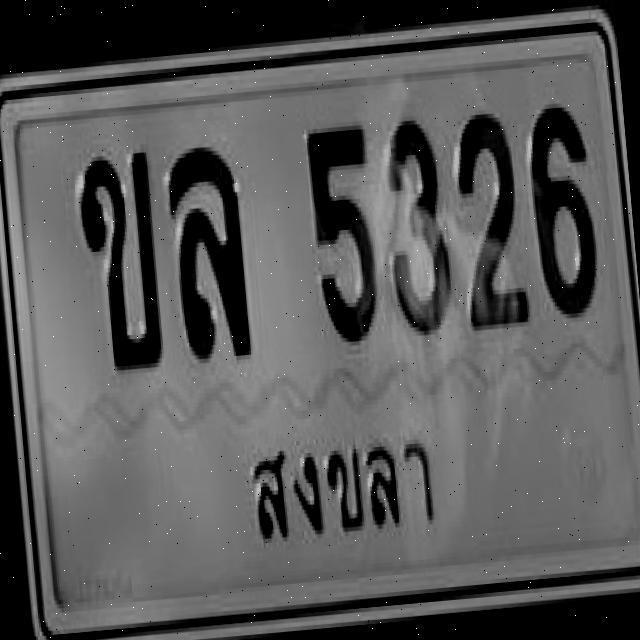11KhorKhai: (59, 128, 176, 397)
2: (438, 97, 540, 386)
3: (373, 108, 464, 386)
45LorLing: (149, 128, 270, 398)
5: (293, 98, 390, 372)
6: (516, 93, 618, 388)
Songkhla: (234, 414, 458, 580)
